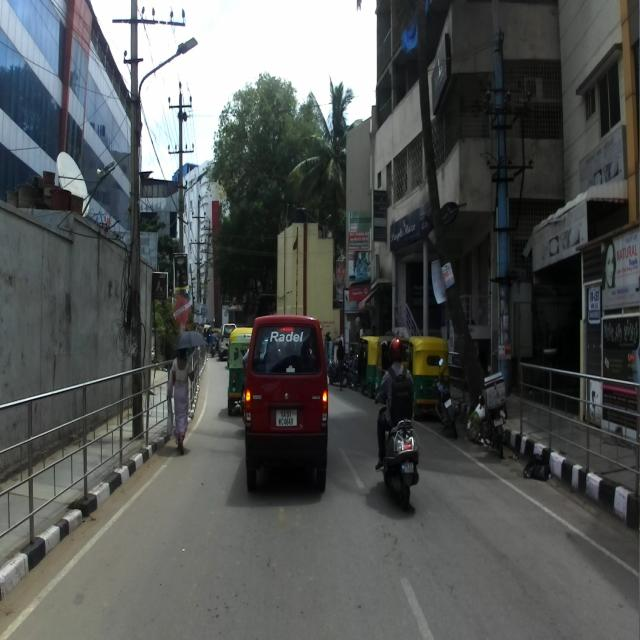car: (244, 316, 328, 492)
motorcycle: (478, 365, 508, 459), (432, 357, 462, 439)
scooter: (371, 378, 419, 509)
